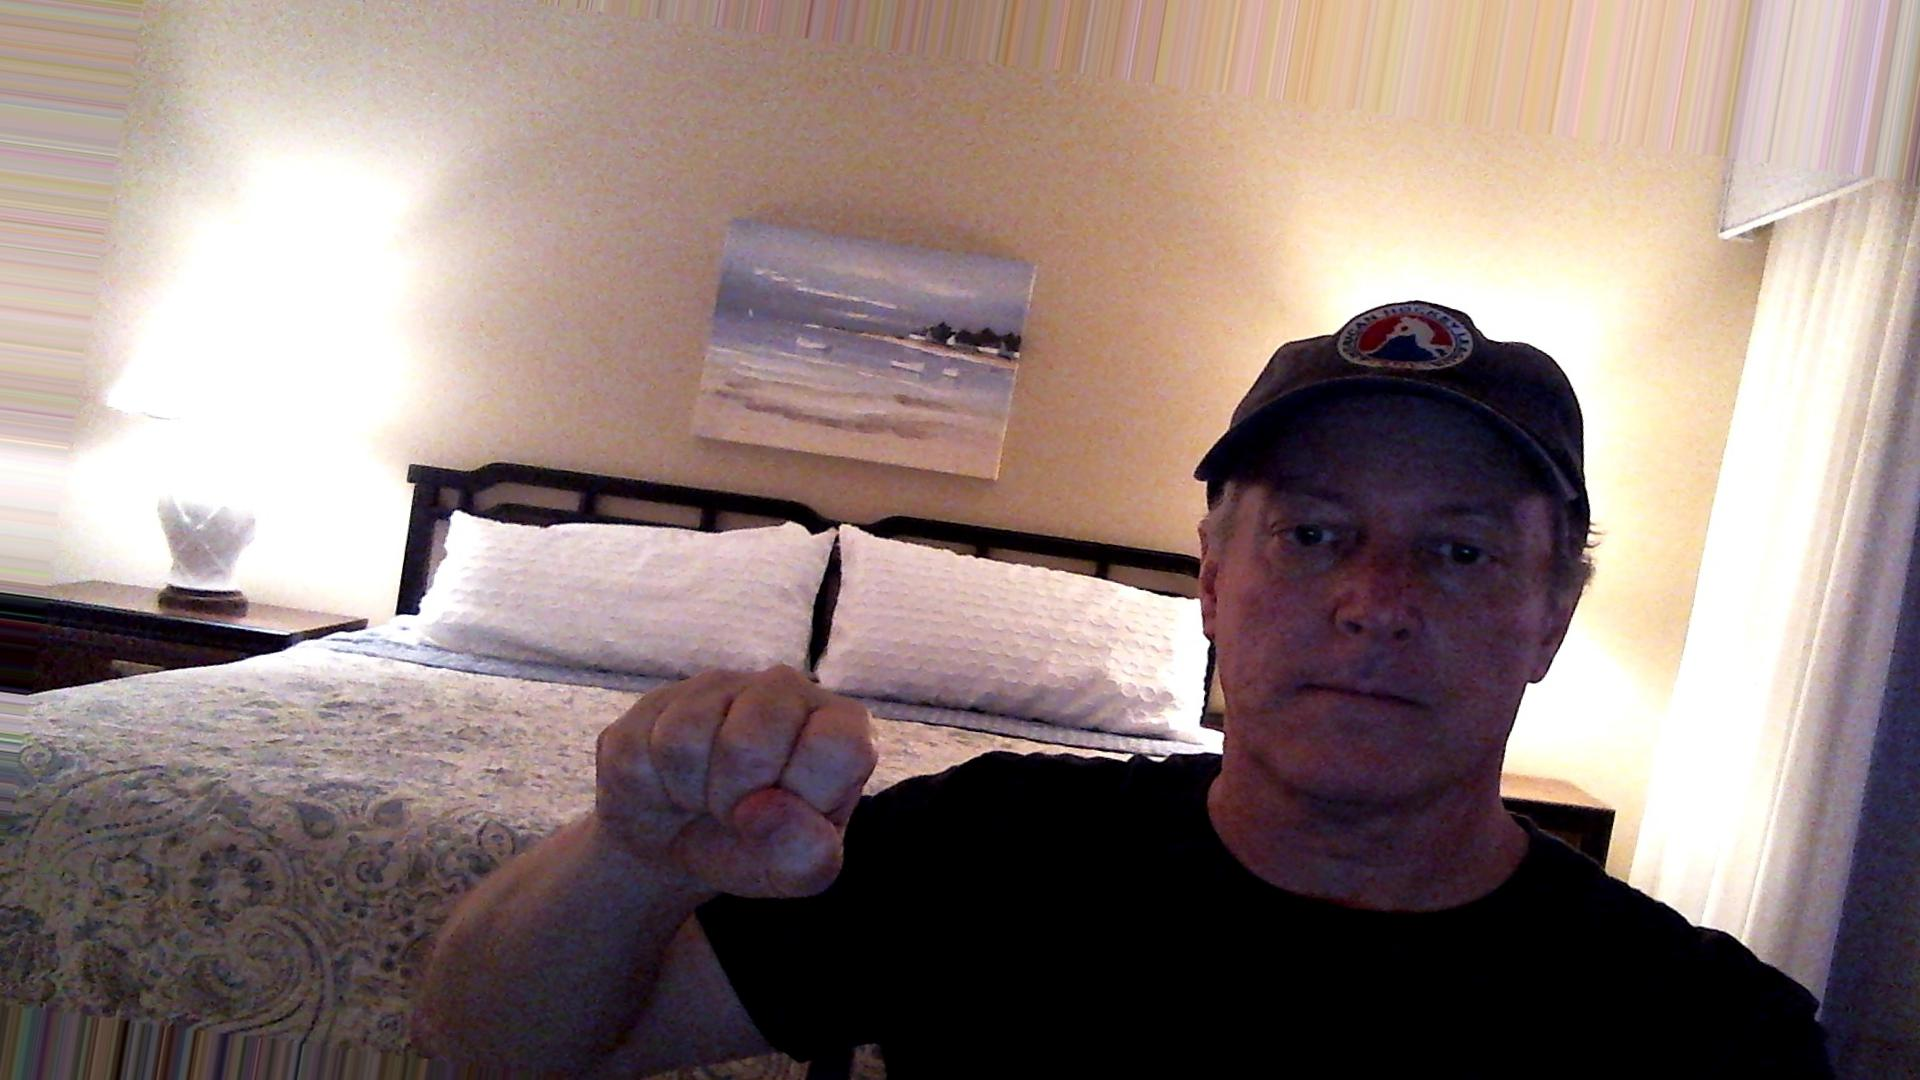Yes: (567, 642, 885, 913)
